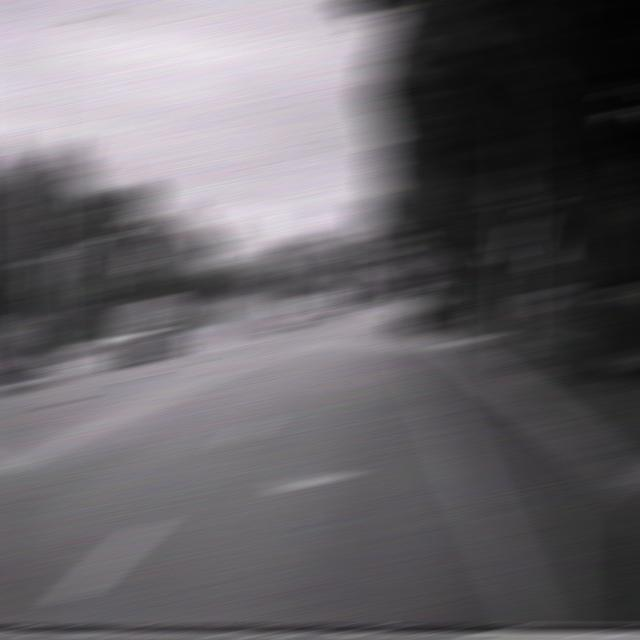pedestrianCrossing: (253, 236, 288, 264)
